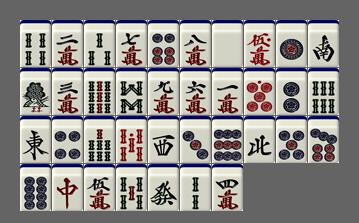0m: (244, 20, 275, 67)
0p: (244, 68, 275, 115)
0s: (116, 116, 147, 163)
1m: (212, 68, 243, 115)
1p: (276, 20, 307, 67)
1s: (20, 68, 51, 115)
1z: (20, 116, 51, 163)
2m: (52, 20, 83, 67)
2p: (276, 68, 307, 115)
2s: (180, 164, 211, 211)
2z: (308, 20, 339, 67)
3m: (52, 68, 83, 115)
3p: (180, 116, 211, 163)
3s: (84, 20, 115, 67)
3z: (148, 116, 179, 163)
4m: (212, 164, 243, 211)
4p: (52, 116, 83, 163)
4s: (20, 20, 51, 67)
4z: (244, 116, 275, 163)
5m: (84, 164, 115, 211)
5p: (276, 116, 307, 163)
5s: (116, 164, 147, 211)
5z: (212, 20, 243, 67)
6m: (180, 68, 211, 115)
6p: (148, 20, 179, 67)
6s: (308, 68, 339, 115)
6z: (148, 164, 179, 211)
7m: (116, 20, 147, 67)
7p: (308, 116, 339, 163)
7s: (84, 116, 115, 163)
7z: (52, 164, 83, 211)
8m: (180, 20, 211, 67)
8p: (20, 164, 51, 211)
8s: (116, 68, 147, 115)
9m: (148, 68, 179, 115)
9p: (212, 116, 243, 163)
9s: (84, 68, 115, 115)
